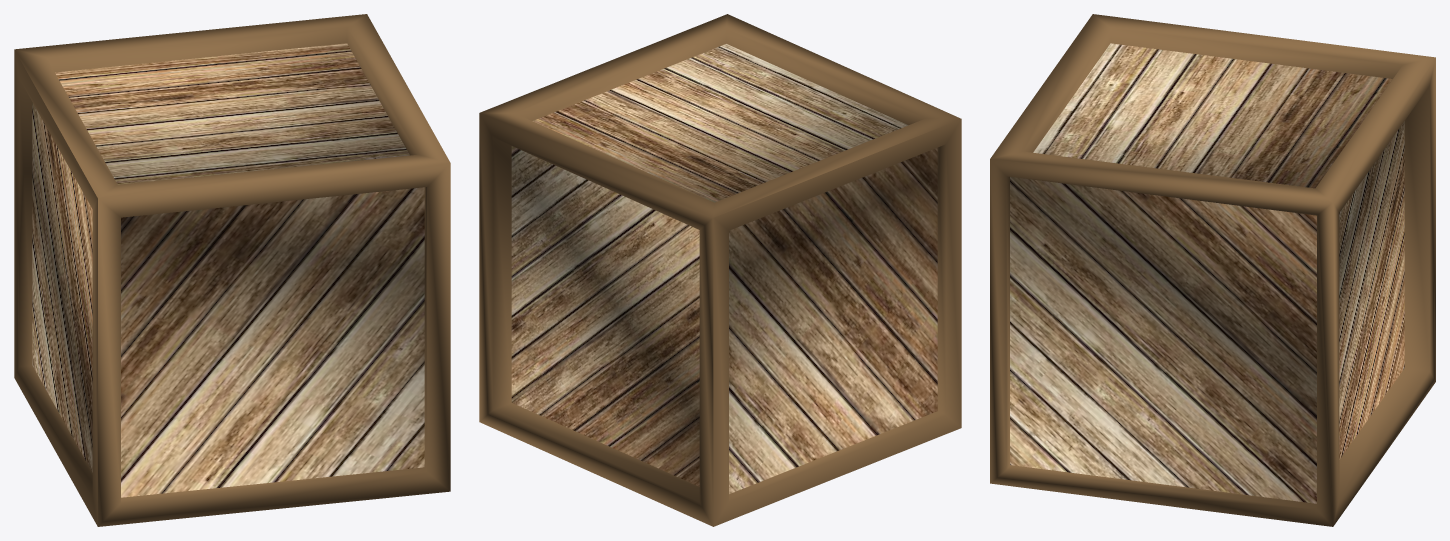
File: Caja.fbx
The picture shows the model from 3 angles, left to right: view 1: azimuth 30°, elevation 25°; view 2: azimuth 150°, elevation 25°; view 3: azimuth 270°, elevation 25°; orthographic projection. The views are drawn at different scales.
Visible parts, largest first — view 1: Box; view 2: Box; view 3: Box.
Part boxes in pixels (x1,y1,x2,y2): Box: (14, 14, 450, 526); Box: (479, 14, 961, 526); Box: (990, 14, 1435, 526).
Size of the model in its own units: 527 by 423 by 527.
Materials: 2 (1 with a texture image).
